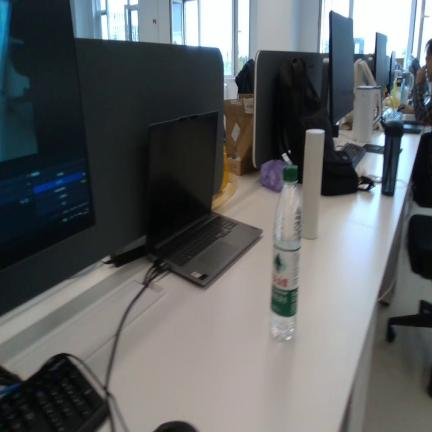bottle: (270, 165, 302, 340)
